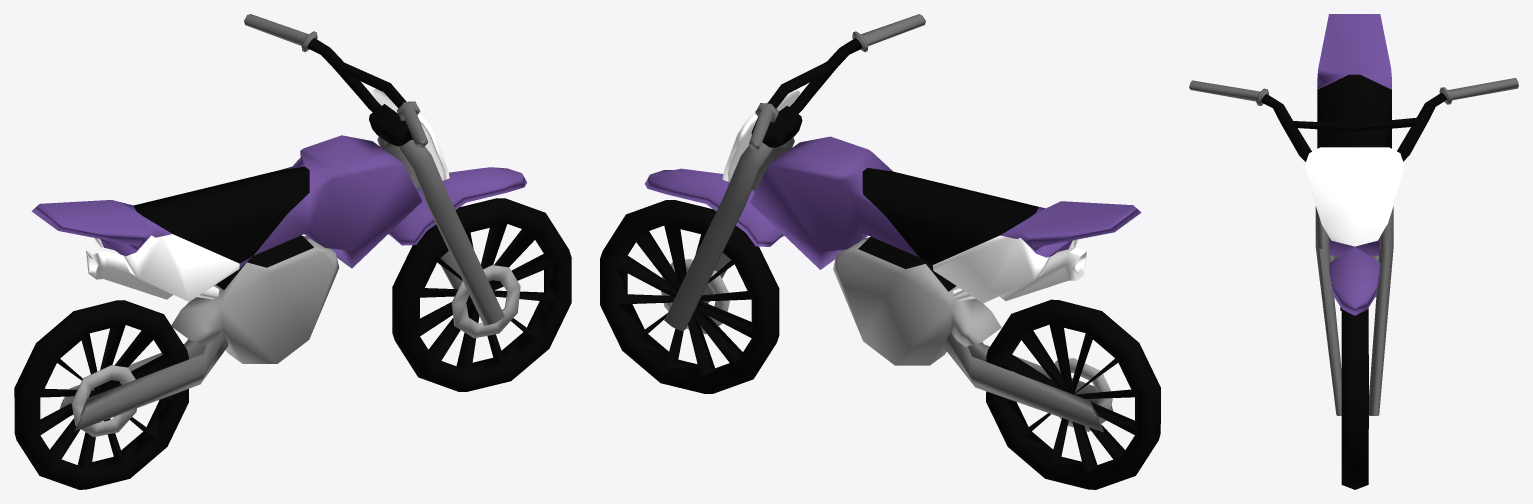
File: DirtBike250ccPurple.glb
The picture shows the model from 3 angles, left to right: view 1: azimuth 30°, elevation 25°; view 2: azimuth 150°, elevation 25°; view 3: azimuth 270°, elevation 25°; orthographic projection. The views are drawn at different scales.
Parts seen in each view (by area): view 1: DirtBike250ccPurple; view 2: DirtBike250ccPurple; view 3: DirtBike250ccPurple.
Boxes of the visible parts, x1,y1,x2,y2 form: DirtBike250ccPurple: (14,14,571,489); DirtBike250ccPurple: (600,14,1160,489); DirtBike250ccPurple: (1189,14,1518,489).
Size of the model in its own units: 2.46 by 1.49 by 1.33.
Materials: 1 (1 with a texture image).
